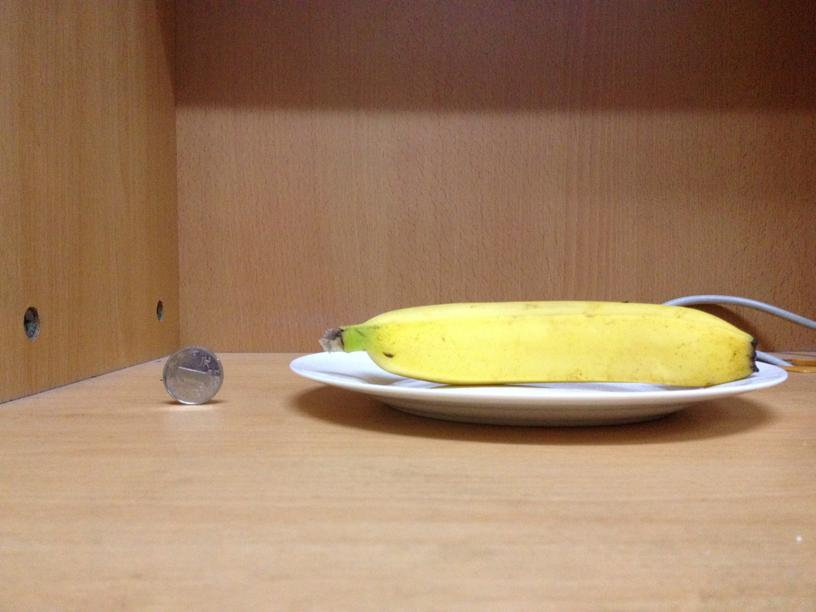banana: (331, 298, 750, 387)
coin: (163, 346, 224, 403)
